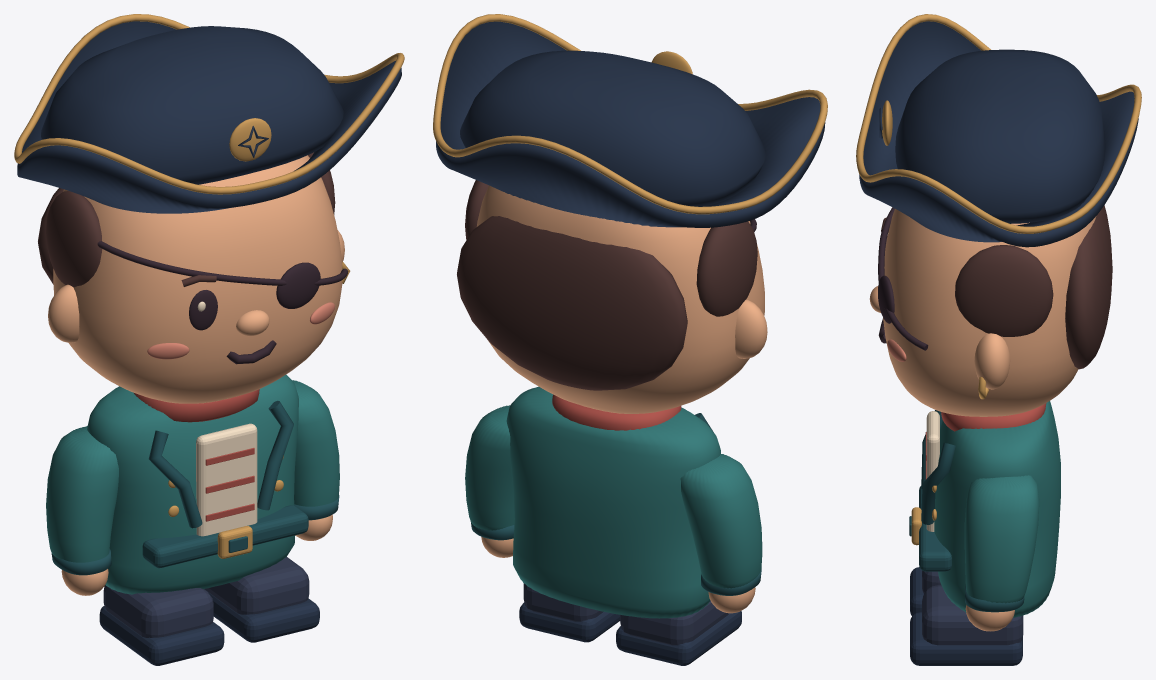
Rendered from pirate_figure.glb.
The picture shows the model from 3 angles, left to right: view 1: azimuth 30°, elevation 25°; view 2: azimuth 150°, elevation 25°; view 3: azimuth 270°, elevation 25°; orthographic projection. The views are drawn at different scales.
Visible parts, largest first — view 1: Solid sculpted head, Low tricorn crown, Tapered coat moulding, Folded tricorn brim, Shaped jacket sleeve, Stitched brass hat welt, Shirt inset, Shaped jacket sleeve.001, Temple hair lock, Rounded leather boot, Rounded leather boot.001, Canvas waist belt (+16 smaller); view 2: Tapered coat moulding, Low tricorn crown, Hair at the nape, Folded tricorn brim, Solid sculpted head, Shaped jacket sleeve, Stitched brass hat welt, Shaped jacket sleeve.001, Temple hair lock, Boot sole, Rounded leather boot, Folded neck scarf (+5 smaller); view 3: Low tricorn crown, Solid sculpted head, Folded tricorn brim, Tapered coat moulding, Shaped jacket sleeve.001, Temple hair lock.001, Hair at the nape, Stitched brass hat welt, Rounded leather boot.001, Boot sole.001, Ear.001, Folded neck scarf (+8 smaller).
Part boxes in pixels (x1,y1,x2,y2): Solid sculpted head: [53, 155, 342, 403]; Low tricorn crown: [41, 26, 343, 184]; Tapered coat moulding: [87, 374, 298, 594]; Folded tricorn brim: [17, 21, 401, 213]; Shaped jacket sleeve: [46, 426, 118, 562]; Stitched brass hat welt: [14, 14, 404, 194]; Shirt inset: [196, 423, 257, 536]; Shaped jacket sleeve.001: [292, 380, 339, 506]; Temple hair lock: [46, 191, 102, 287]; Rounded leather boot: [103, 585, 213, 637]; Rounded leather boot.001: [205, 557, 309, 614]; Canvas waist belt: [142, 505, 308, 568]; Tapered coat moulding: [506, 386, 720, 618]; Low tricorn crown: [460, 50, 766, 206]; Hair at the nape: [457, 216, 687, 390]; Folded tricorn brim: [436, 21, 825, 227]; Solid sculpted head: [476, 185, 764, 413]; Shaped jacket sleeve: [680, 454, 762, 588]; Stitched brass hat welt: [433, 14, 827, 214]; Shaped jacket sleeve.001: [465, 405, 514, 530]; Temple hair lock: [696, 221, 757, 316]; Boot sole: [616, 611, 741, 665]; Rounded leather boot: [620, 601, 728, 645]; Folded neck scarf: [552, 394, 681, 430]; Low tricorn crown: [895, 49, 1105, 223]; Solid sculpted head: [883, 209, 1096, 416]; Folded tricorn brim: [859, 21, 1138, 247]; Tapered coat moulding: [934, 401, 1060, 617]; Shaped jacket sleeve.001: [964, 475, 1039, 603]; Temple hair lock.001: [955, 245, 1053, 336]; Hair at the nape: [1065, 205, 1112, 369]; Stitched brass hat welt: [856, 14, 1141, 233]; Rounded leather boot.001: [922, 585, 1023, 645]; Boot sole.001: [910, 612, 1022, 665]; Ear.001: [974, 333, 1010, 389]; Folded neck scarf: [941, 403, 1046, 431].
Bounding box in the file's own units: 1.11 × 1.64 × 0.7718.
